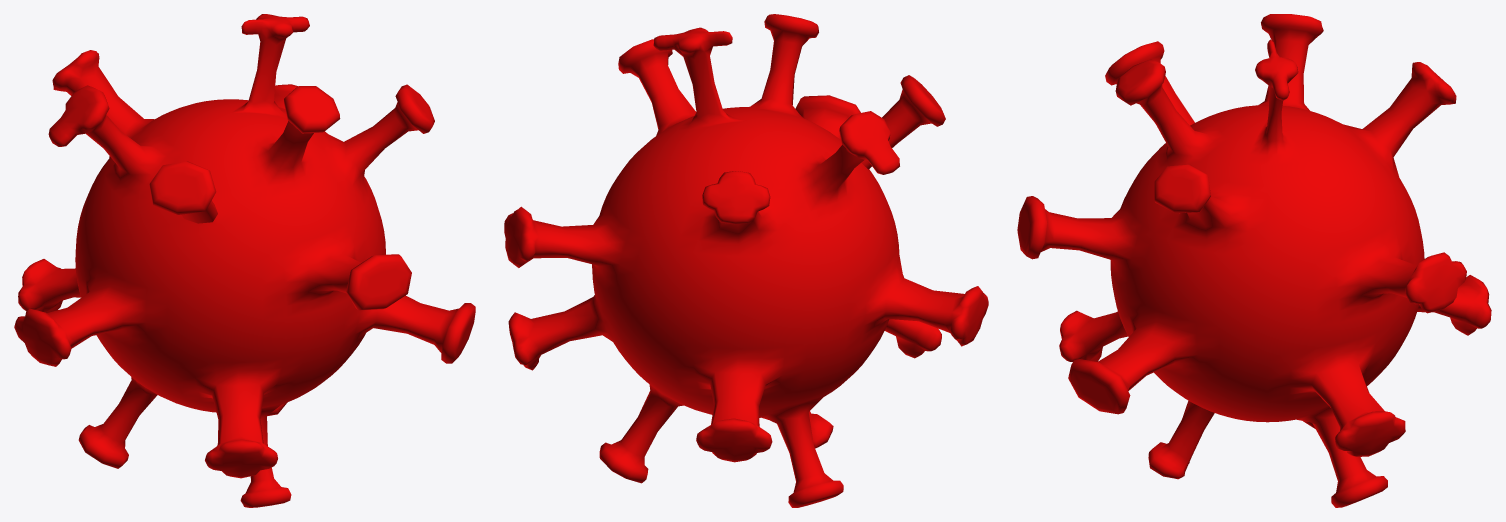
File: virus2.fbx
3 views of the same model, side by side, from view 1: azimuth 30°, elevation 25°; view 2: azimuth 150°, elevation 25°; view 3: azimuth 270°, elevation 25° (orthographic).
Parts seen in each view (by area): view 1: pSphere1; view 2: pSphere1; view 3: pSphere1.
Boxes of the visible parts, box(x1,y1,x2,y2) form: pSphere1: box(14, 14, 475, 507); pSphere1: box(504, 14, 988, 507); pSphere1: box(1017, 14, 1491, 507).
Size of the model in its own units: 3 by 3.09 by 2.97.
